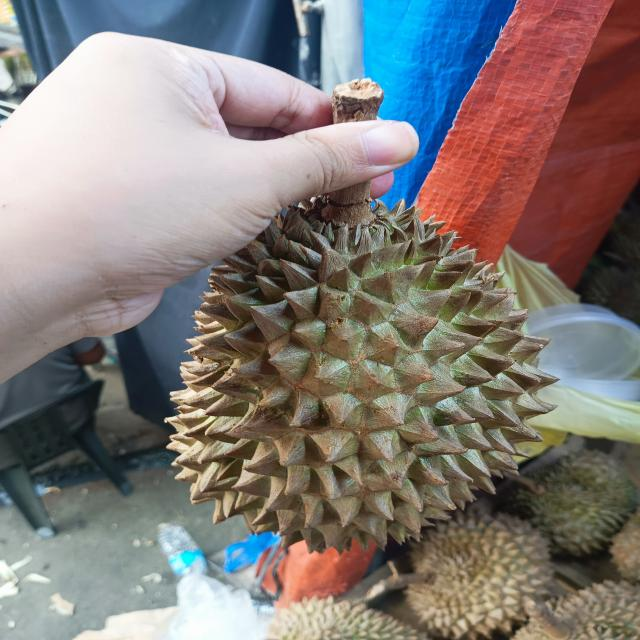mature: (167, 195, 555, 553)
